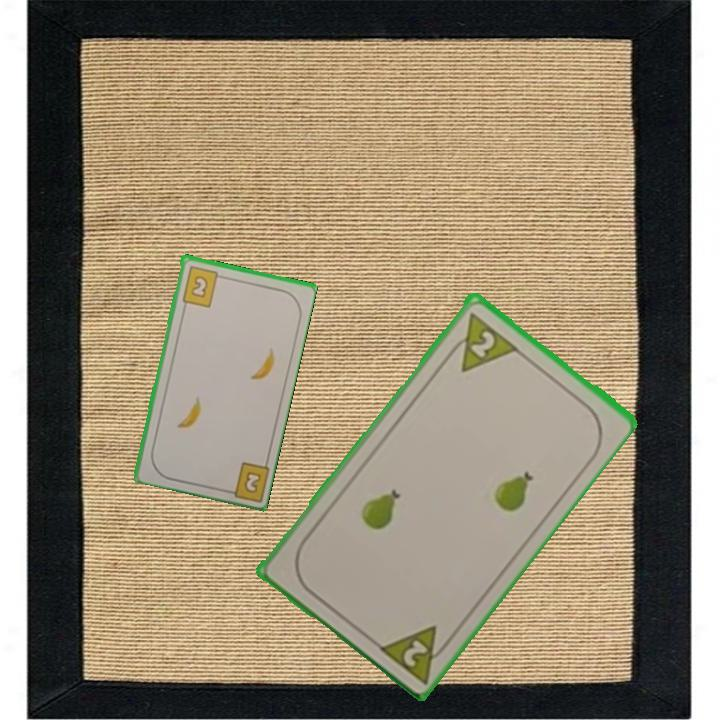2b: (178, 262, 226, 309), (220, 458, 271, 502)
2p: (441, 307, 520, 375), (374, 621, 456, 686)
